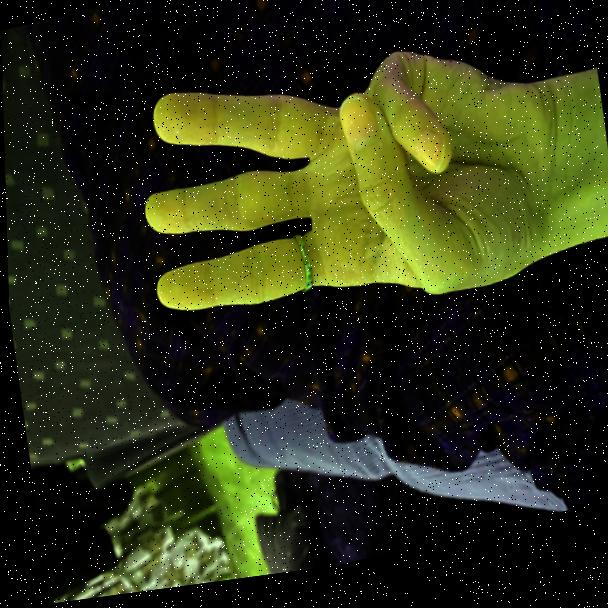five: (116, 0, 531, 391)
